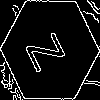Z: (25, 25, 73, 74)
